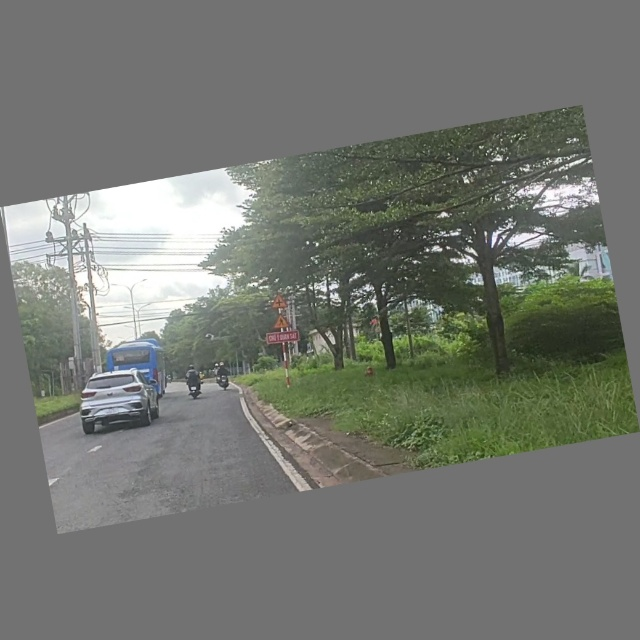W.205a: (269, 291, 289, 311)
W.224: (270, 310, 295, 331)
